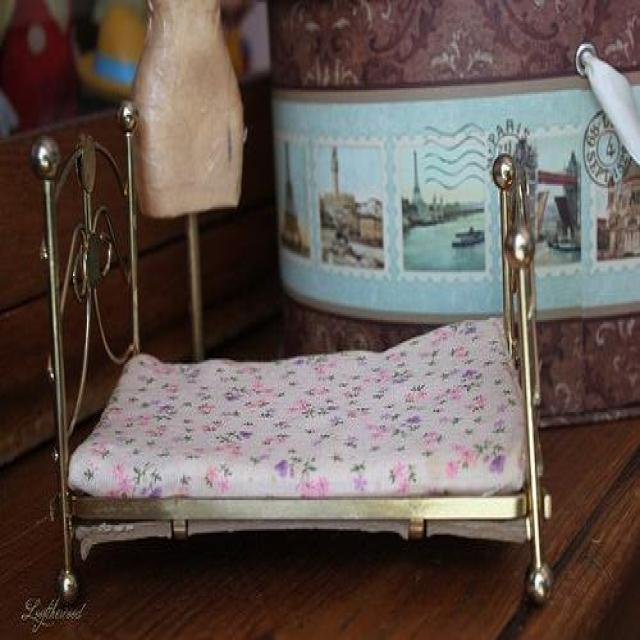bed: (31, 100, 553, 608)
